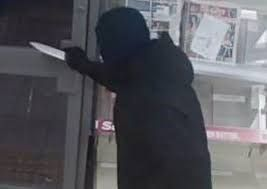gun: (21, 33, 80, 76)
